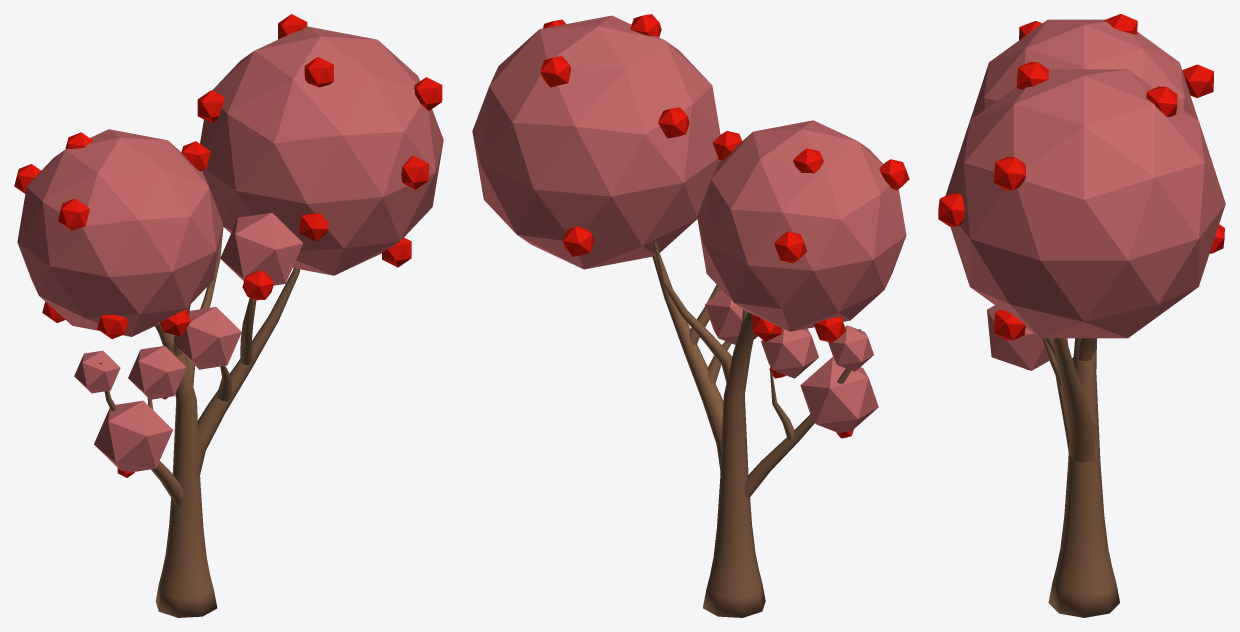
Rendered from CherryTree2.fbx.
3 renders of one model, left to right at view 1: azimuth 30°, elevation 25°; view 2: azimuth 150°, elevation 25°; view 3: azimuth 270°, elevation 25°, orthographic. The views are drawn at different scales.
Visible parts, largest first — view 1: Line.054; view 2: Line.054; view 3: Line.054.
Part boxes in pixels (left/top/right/bottom): Line.054: left=14, top=14, right=443, bottom=617; Line.054: left=472, top=14, right=909, bottom=617; Line.054: left=938, top=14, right=1225, bottom=617.
Size of the model in its own units: 2.91 by 3.82 by 1.66.
